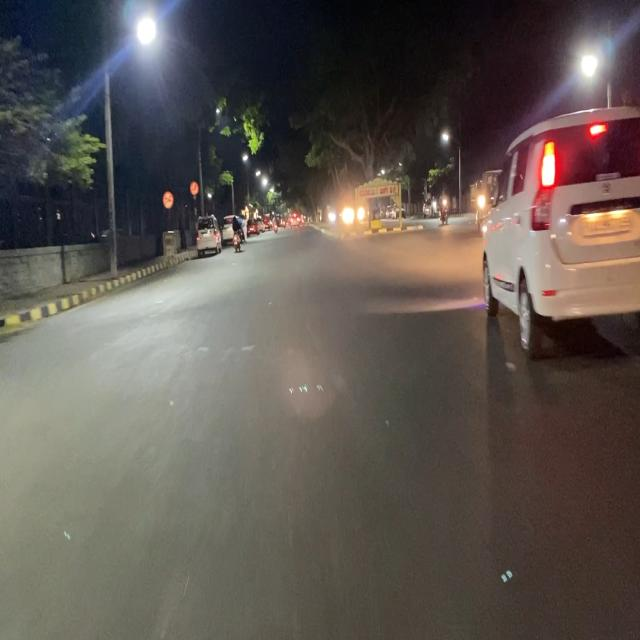bien_cam: (162, 189, 174, 210), (190, 179, 199, 197)
